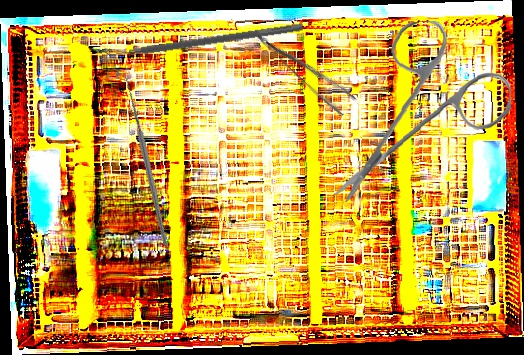Dressing Forceps: (254, 19, 359, 119)
Hook Surgical: (70, 71, 214, 248)
Iris Scissors: (326, 16, 516, 203)
Spatula Surgical: (98, 14, 304, 63)
